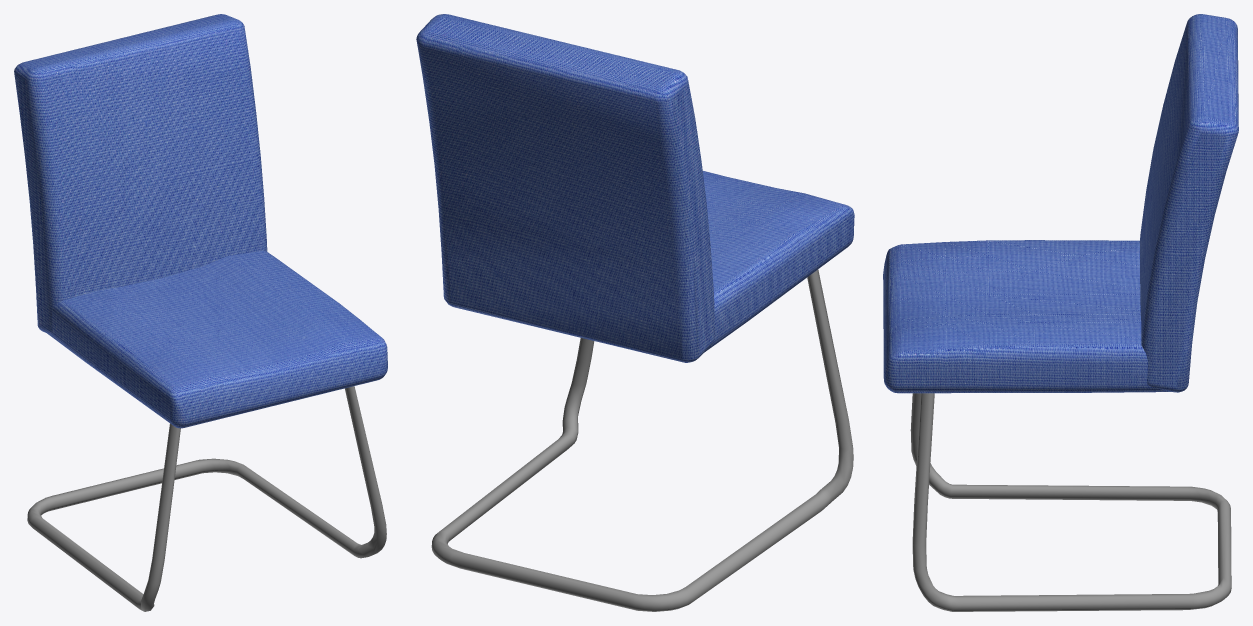
The model's file is Chair 1.FBX.
3 views of the same model, side by side, from view 1: azimuth 30°, elevation 25°; view 2: azimuth 150°, elevation 25°; view 3: azimuth 270°, elevation 25° (orthographic). The views are drawn at different scales.
Parts seen in each view (by area): view 1: Chair 1; view 2: Chair 1; view 3: Chair 1.
Part boxes in pixels (x1,y1,x2,y2): Chair 1: (14, 14, 387, 611); Chair 1: (416, 14, 854, 611); Chair 1: (883, 14, 1238, 611).
Size of the model in its own units: 52.49 by 94.17 by 62.22.
